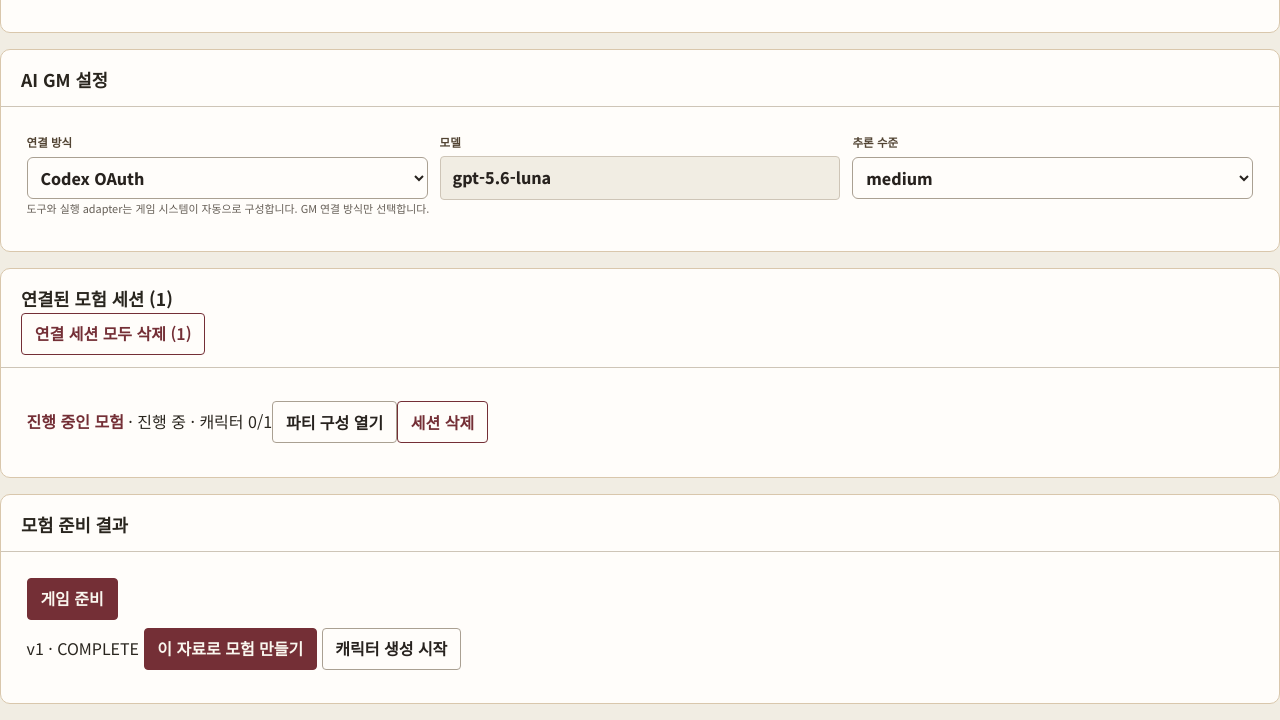
Test: BundleDetailPage session cleanup › deletes a connected active session so its bundle can be removed
The width and height of the screenshot is (1280, 720).
(page scrolled)
Step 1. Click the button "세션 삭제" → (442, 422), box left=397, top=402, right=488, bottom=444
(page scrolled)
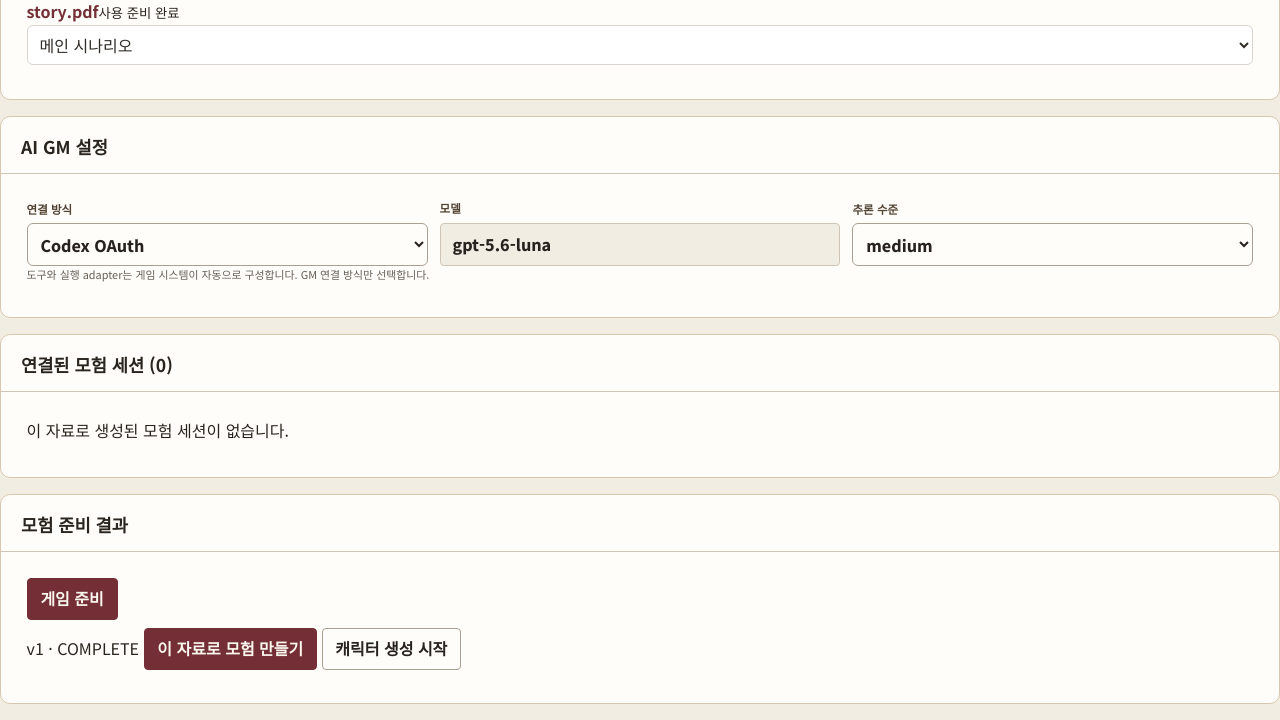
Now the text "이 자료로 생성된 모험 세션이 없습니다." is shown, box left=27, top=418, right=289, bottom=442
